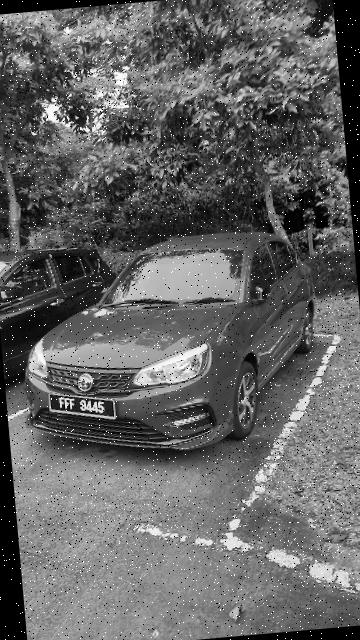License_Plate: (50, 388, 120, 427)
car: (8, 225, 328, 466), (1, 233, 125, 389)
